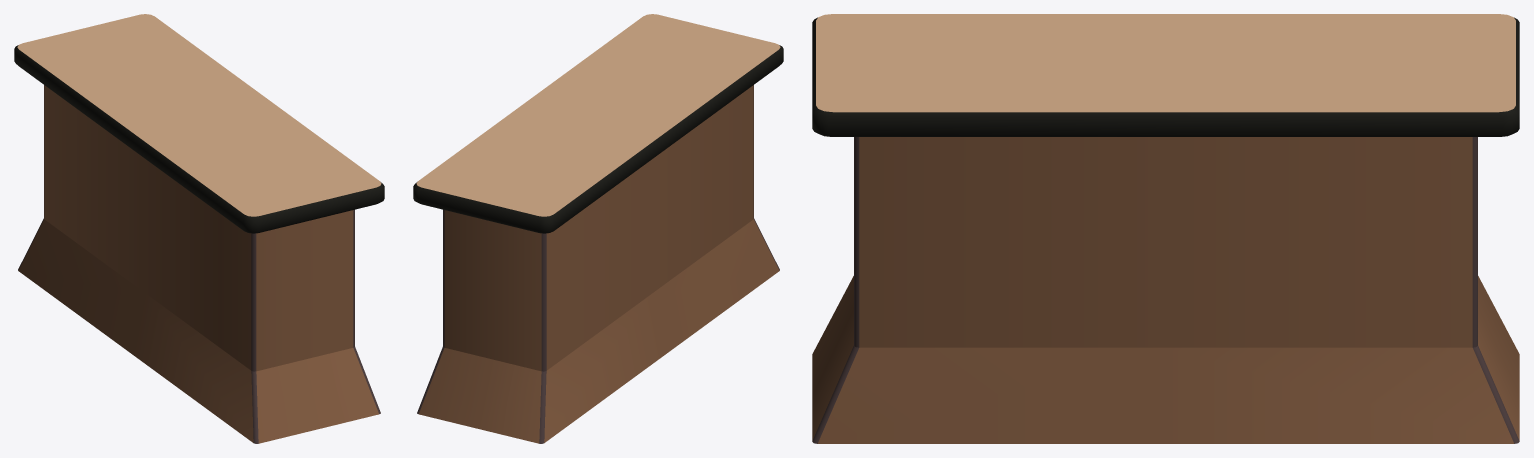
Rendered from OT_179_small_display_table.glb.
The picture shows the model from 3 angles, left to right: view 1: azimuth 30°, elevation 25°; view 2: azimuth 150°, elevation 25°; view 3: azimuth 270°, elevation 25°; orthographic projection. The views are drawn at different scales.
Visible parts, largest first — view 1: display_table; view 2: display_table; view 3: display_table.
Part boxes in pixels (box(x1,y1,x2,y2)): display_table: box(14, 14, 384, 443); display_table: box(413, 14, 783, 443); display_table: box(812, 14, 1519, 443).
Size of the model in its own units: 0.7279 by 1.13 by 2.15.
